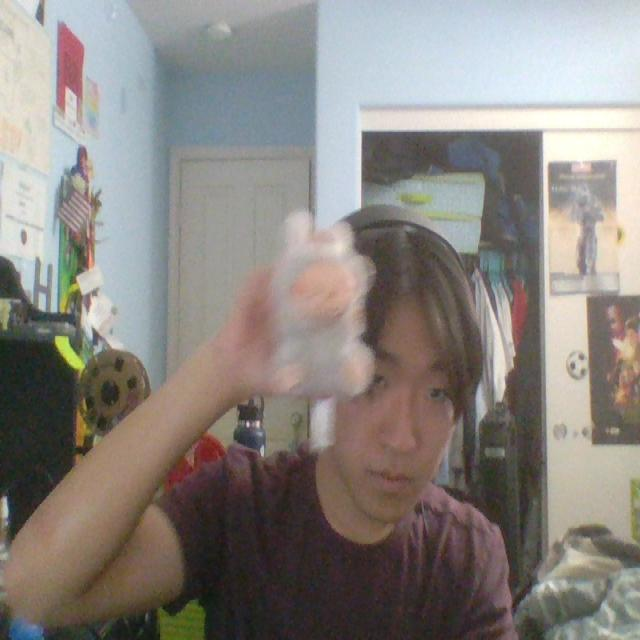labubu: (271, 212, 373, 396)
